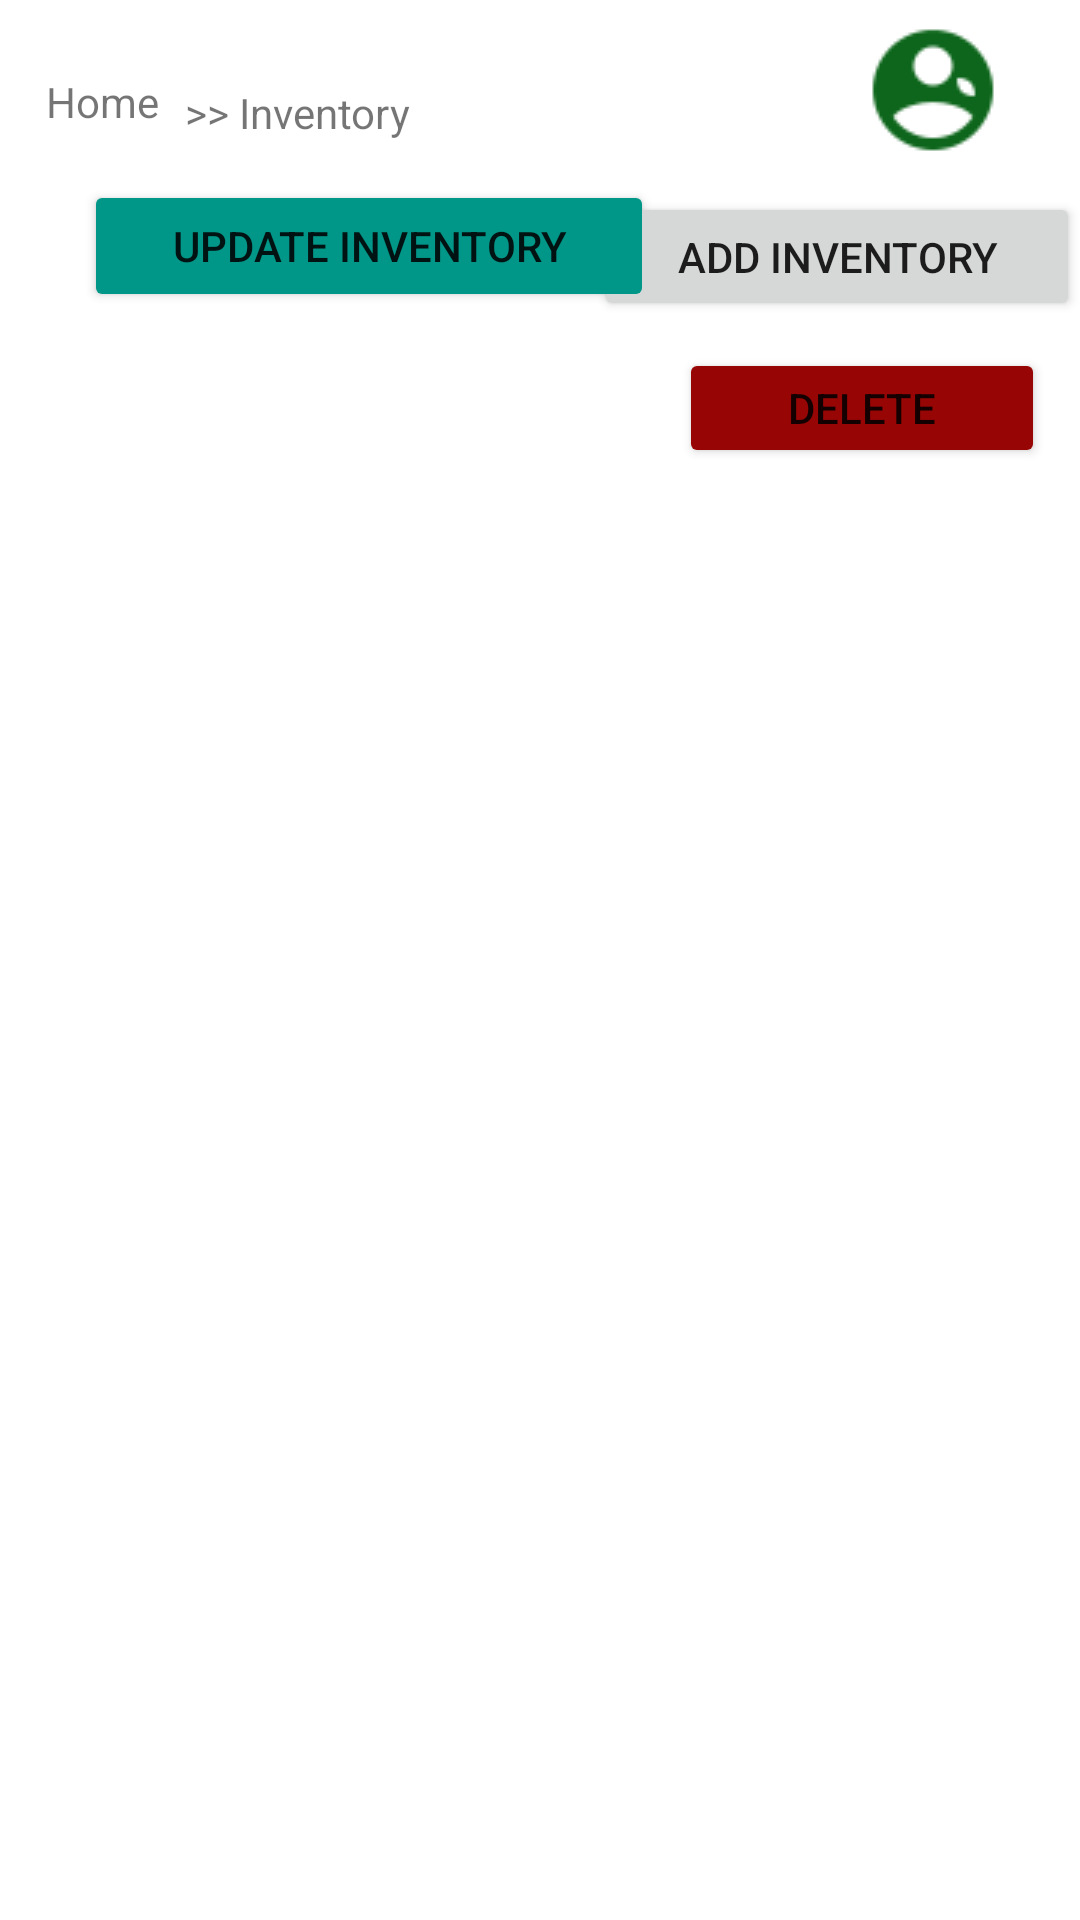

Where icons sit on this 1080px×1920px app screen, as {"x1": x1, "y1": y1, "x2": x2, "y2": y2}:
userprofile: {"x1": 872, "y1": 29, "x2": 994, "y2": 151}
